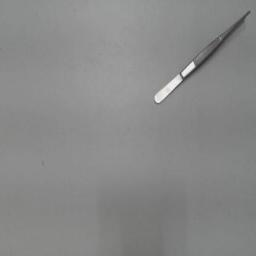Gillies Toothed Dissector: (151, 6, 253, 106)
